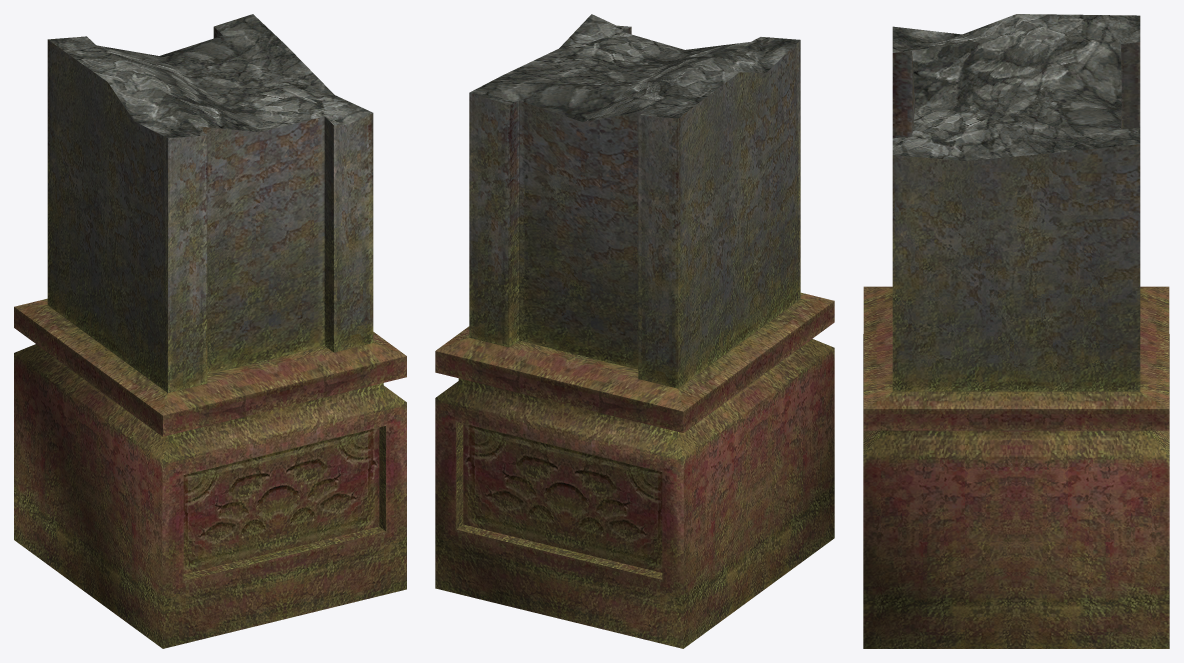
File: fortressa_pillar_02.fbx
The picture shows the model from 3 angles, left to right: view 1: azimuth 30°, elevation 25°; view 2: azimuth 150°, elevation 25°; view 3: azimuth 270°, elevation 25°; orthographic projection. The views are drawn at different scales.
Visible parts, largest first — view 1: fortressA_pillar_02; view 2: fortressA_pillar_02; view 3: fortressA_pillar_02.
Part boxes in pixels (x1,y1,x2,y2): fortressA_pillar_02: (14, 14, 406, 648); fortressA_pillar_02: (435, 14, 834, 648); fortressA_pillar_02: (863, 14, 1169, 648).
Bounding box in the file's own units: 3.94 × 7.83 × 4.16.
